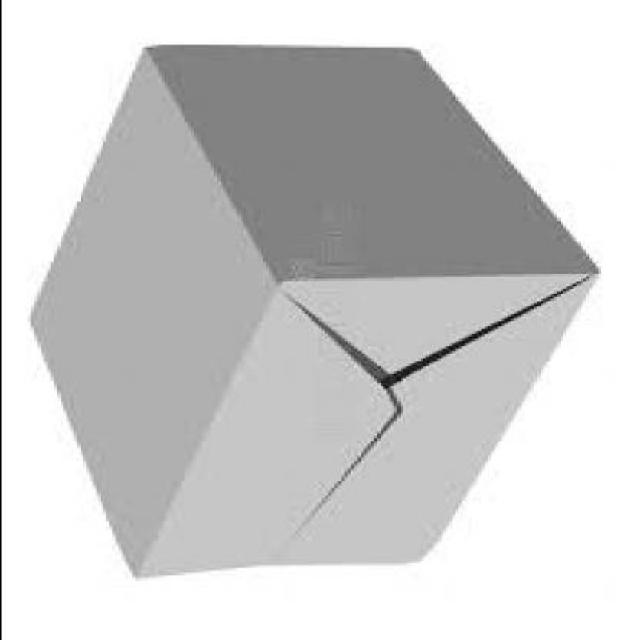CARDBOARD: (31, 45, 600, 582)
